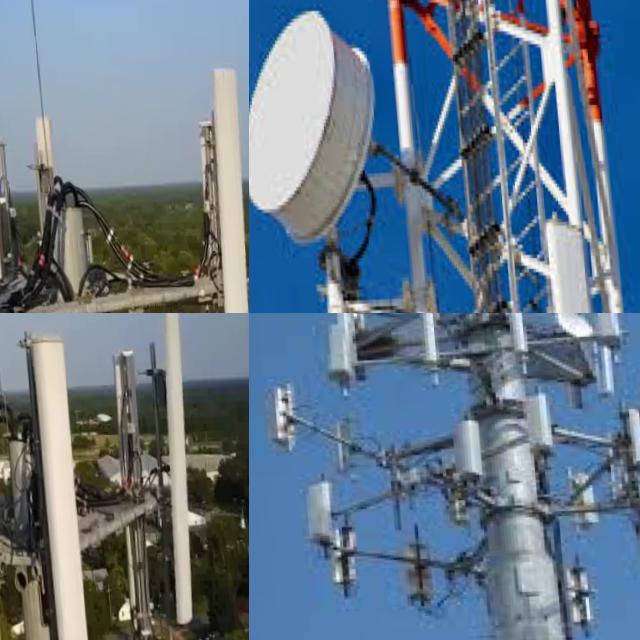GSM Antenna: (16, 323, 107, 640), (143, 313, 203, 622), (189, 40, 249, 313), (106, 339, 156, 640), (189, 110, 238, 313), (539, 207, 607, 313), (0, 116, 27, 313), (31, 101, 61, 249), (513, 378, 560, 452), (294, 473, 337, 547), (323, 313, 369, 379), (450, 413, 487, 493), (410, 313, 449, 378), (254, 376, 290, 446), (622, 491, 640, 602), (613, 403, 640, 462), (587, 313, 624, 335)
Microwave Antenna: (249, 0, 396, 270)
